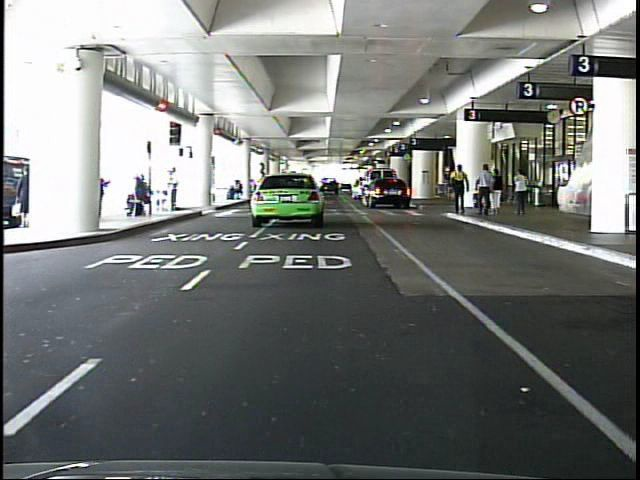person: (19, 168, 49, 226), (448, 161, 473, 221), (507, 166, 534, 220), (474, 162, 495, 219), (168, 167, 187, 216), (490, 165, 506, 220)
